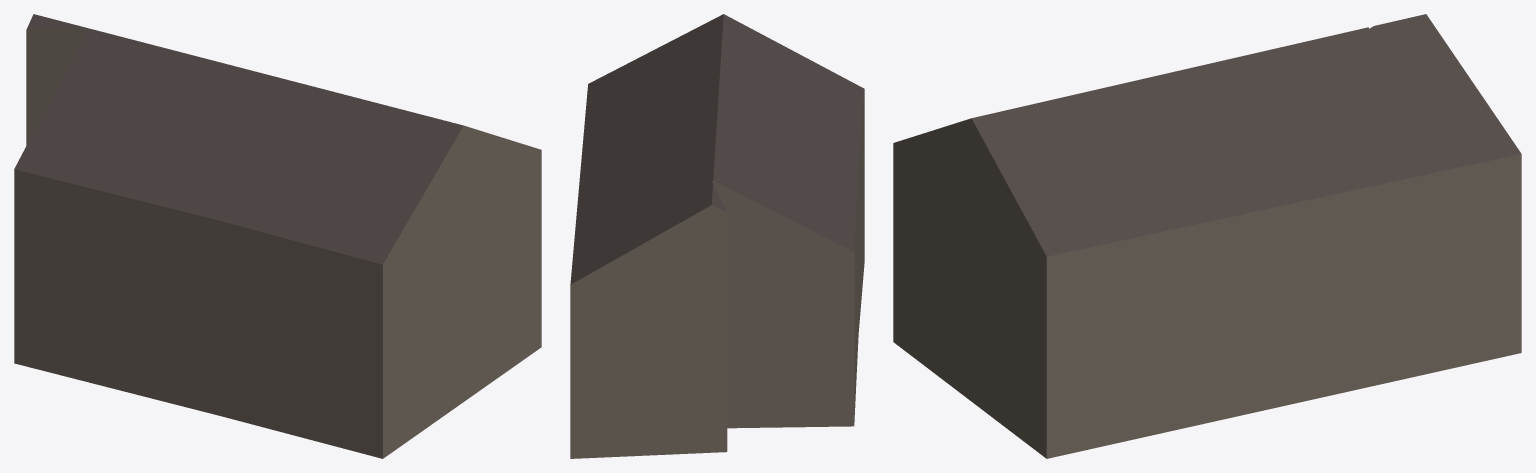
3 views of the same model, side by side, from view 1: azimuth 30°, elevation 25°; view 2: azimuth 150°, elevation 25°; view 3: azimuth 270°, elevation 25° (orthographic). The views are drawn at different scales.
Visible parts, largest first — view 1: HP-w1197015324; view 2: HP-w1197015324; view 3: HP-w1197015324.
Part boxes in pixels (x1,y1,x2,y2): HP-w1197015324: (14,14,541,458); HP-w1197015324: (570,14,864,458); HP-w1197015324: (893,14,1521,458).
Bounding box in the file's own units: 13.33 × 8.54 × 17.16.
